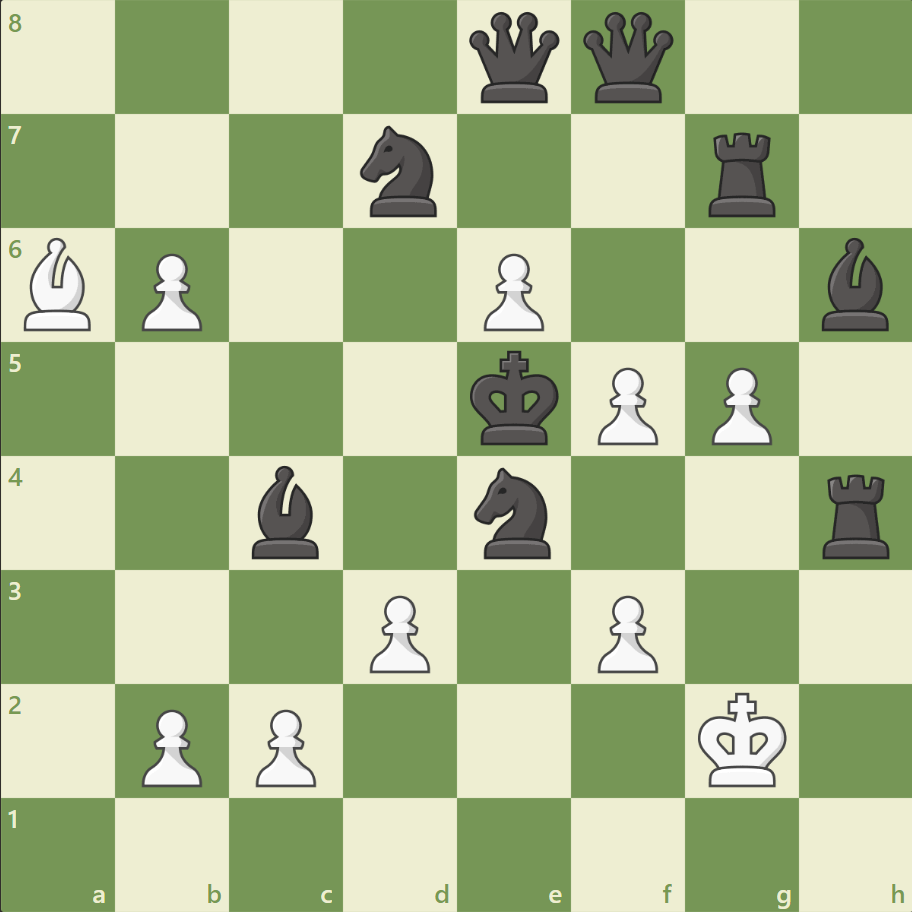B: (17, 233, 101, 336)
K: (692, 685, 792, 793)
P: (133, 246, 208, 337), (474, 246, 549, 337), (701, 359, 776, 450), (133, 700, 208, 791), (247, 700, 322, 791), (588, 359, 662, 450), (361, 586, 435, 677), (588, 586, 662, 677)
b: (812, 233, 896, 336), (244, 460, 328, 563)
k: (465, 344, 565, 452)
n: (351, 121, 449, 223), (465, 461, 562, 564)
q: (464, 9, 563, 108), (578, 9, 677, 108)
r: (700, 125, 783, 222), (814, 466, 897, 563)
